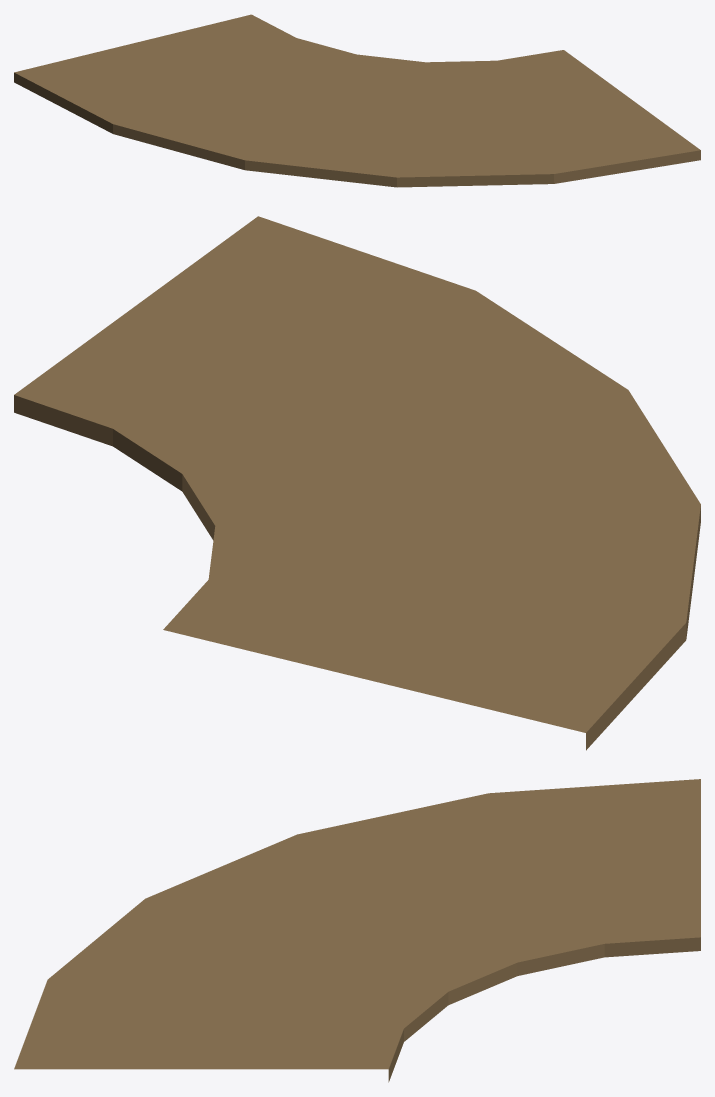
Rendered from road_dirt_curve_lod1.glb.
The picture shows the model from 3 angles, top to bottom: view 1: azimuth 30°, elevation 25°; view 2: azimuth 150°, elevation 25°; view 3: azimuth 270°, elevation 25°; orthographic projection. The views are drawn at different scales.
Parts seen in each view (by area): view 1: body; view 2: body; view 3: body.
Boxes of the visible parts, box(x1,y1,x2,y2) form: body: box(14, 14, 700, 187); body: box(14, 216, 700, 750); body: box(14, 779, 700, 1082).
Size of the model in its own units: 5.5 by 0.12 by 5.5.
